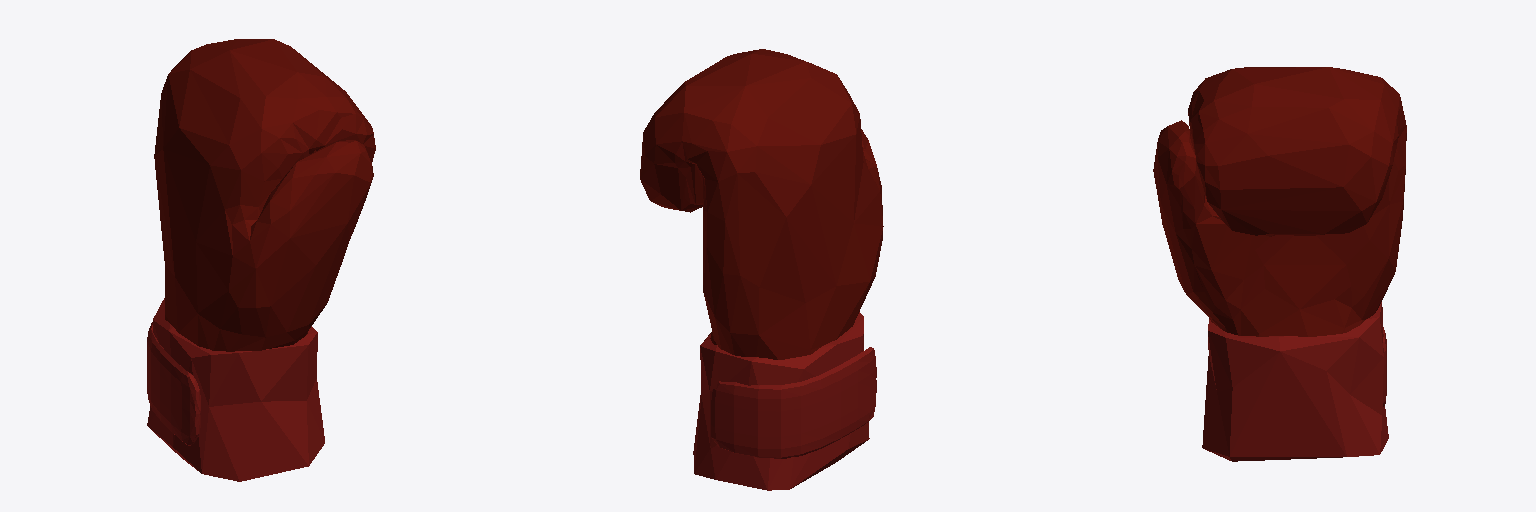
The model's file is BoxingGlove.obj.
The picture shows the model from 3 angles: view 1: azimuth 30°, elevation 25°; view 2: azimuth 150°, elevation 25°; view 3: azimuth 270°, elevation 25°; orthographic projection.
Parts seen in each view (by area): view 1: GloveLP_Cube.001; view 2: GloveLP_Cube.001; view 3: GloveLP_Cube.001.
Boxes of the visible parts, x1,y1,x2,y2 form: GloveLP_Cube.001: [147, 39, 375, 481]; GloveLP_Cube.001: [640, 49, 883, 490]; GloveLP_Cube.001: [1153, 67, 1406, 461].
Size of the model in its own units: 0.606 by 1.23 by 0.7531.